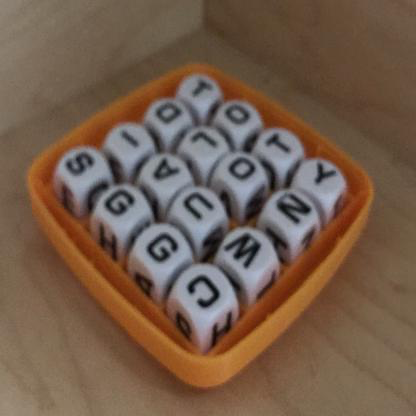a: (150, 155, 183, 190)
c: (181, 273, 227, 318)
d: (151, 92, 184, 134)
g: (144, 220, 182, 269), (99, 188, 141, 222)
i: (116, 120, 146, 160)
l: (188, 127, 218, 161)
n: (273, 186, 312, 234)
o: (224, 150, 259, 191), (221, 97, 257, 133)
s: (57, 139, 101, 188)
t: (263, 125, 297, 162), (187, 71, 216, 110)
u: (180, 187, 218, 231)
w: (220, 229, 268, 278)
y: (307, 157, 340, 204)
